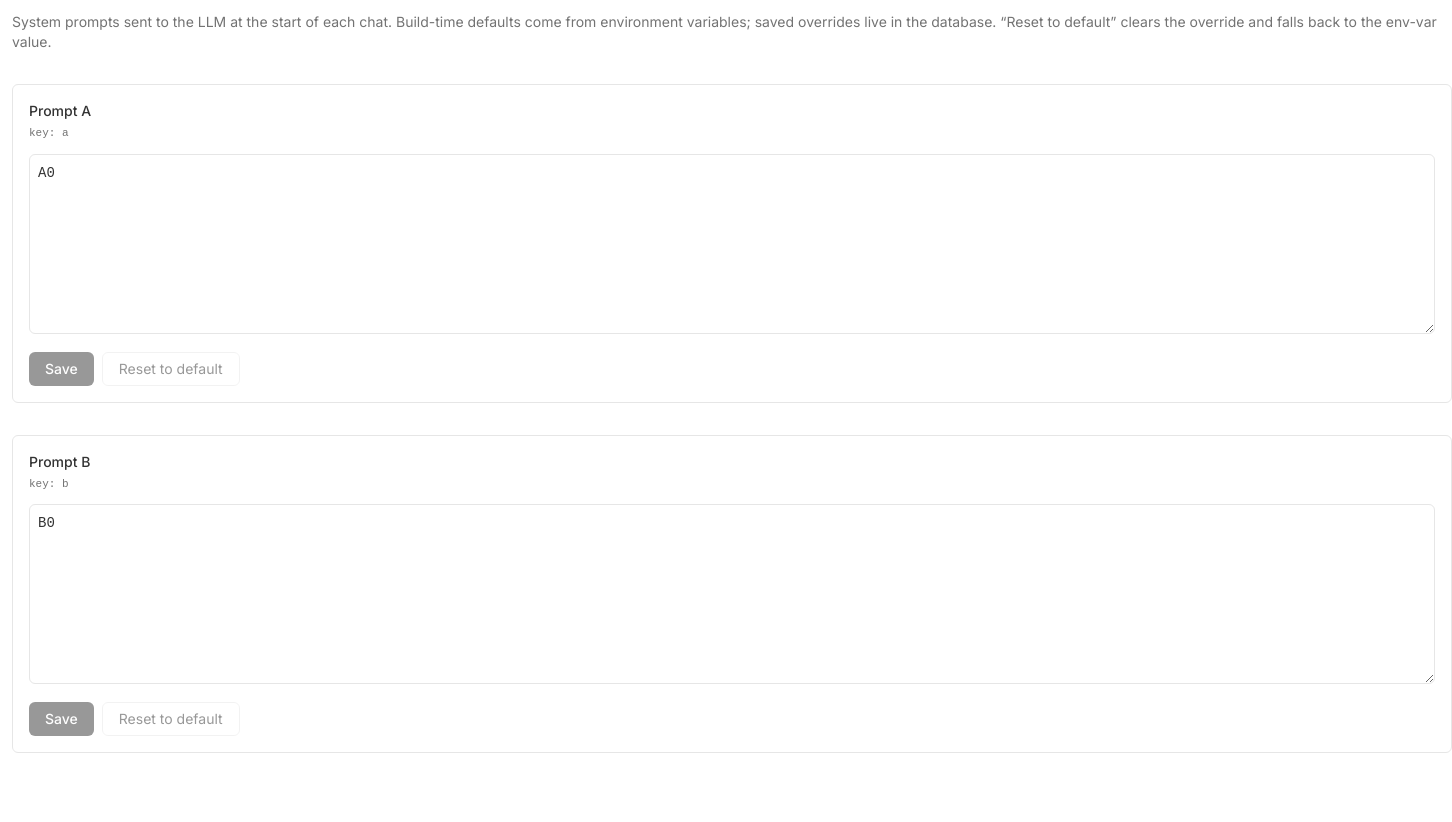
Test case: Prompts tab and the bar › shows the bar once a prompt is edited, and Discard puts the text back
The image size is (1452, 822).
Expected: the text "Prompt A" is shown, [29,101,91,121]
Expected: the element "unsaved changes" is not shown
Replace the text in the text box below "Prompt A" with "A1" at (732, 244), box [29,154,1435,334]
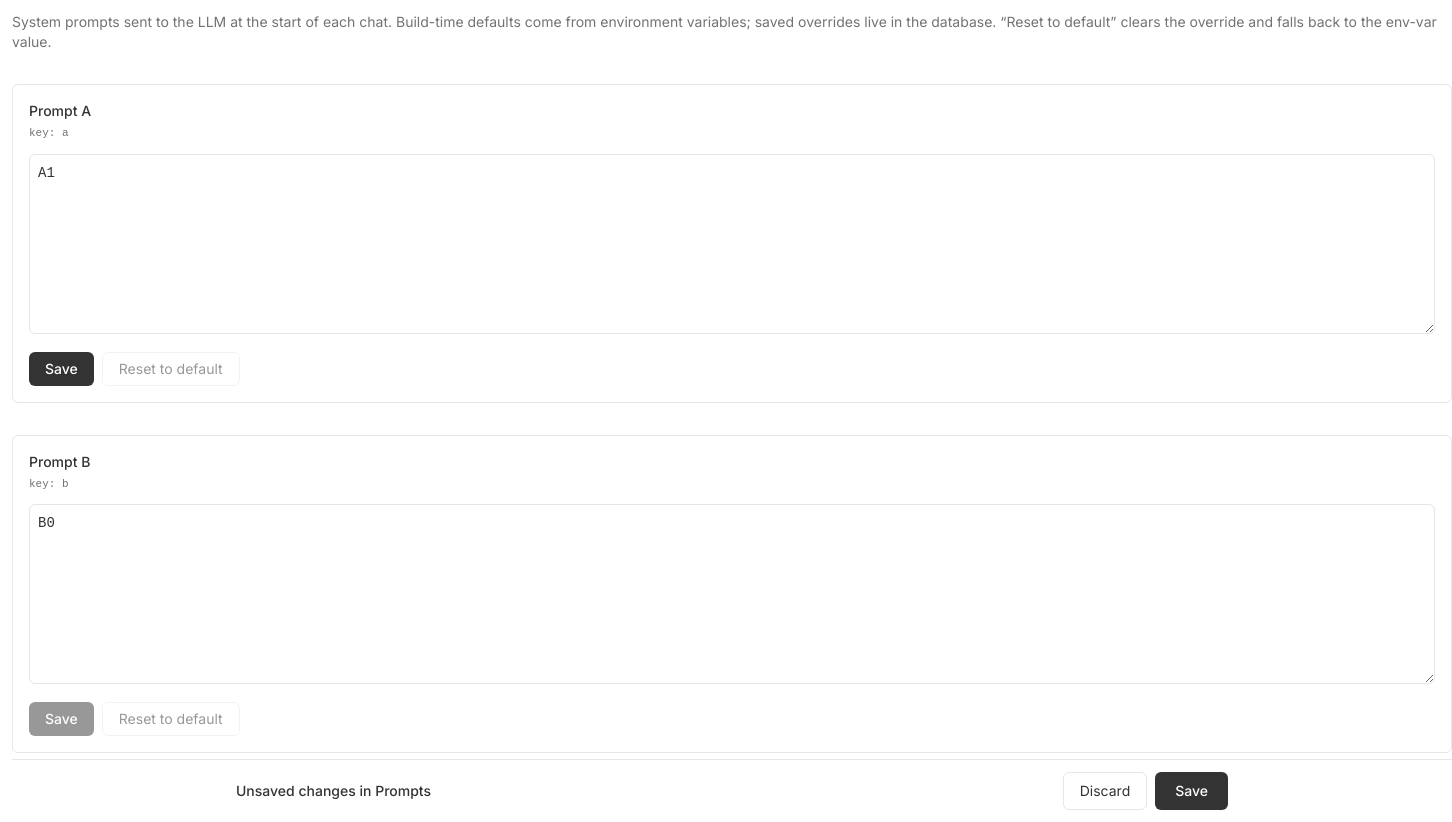
Expected: the element "Unsaved changes in Prompts Discard Save" is shown, [12,759,1451,821]
Click the button "Discard".
click(1105, 791)  # box [1063,772,1147,810]
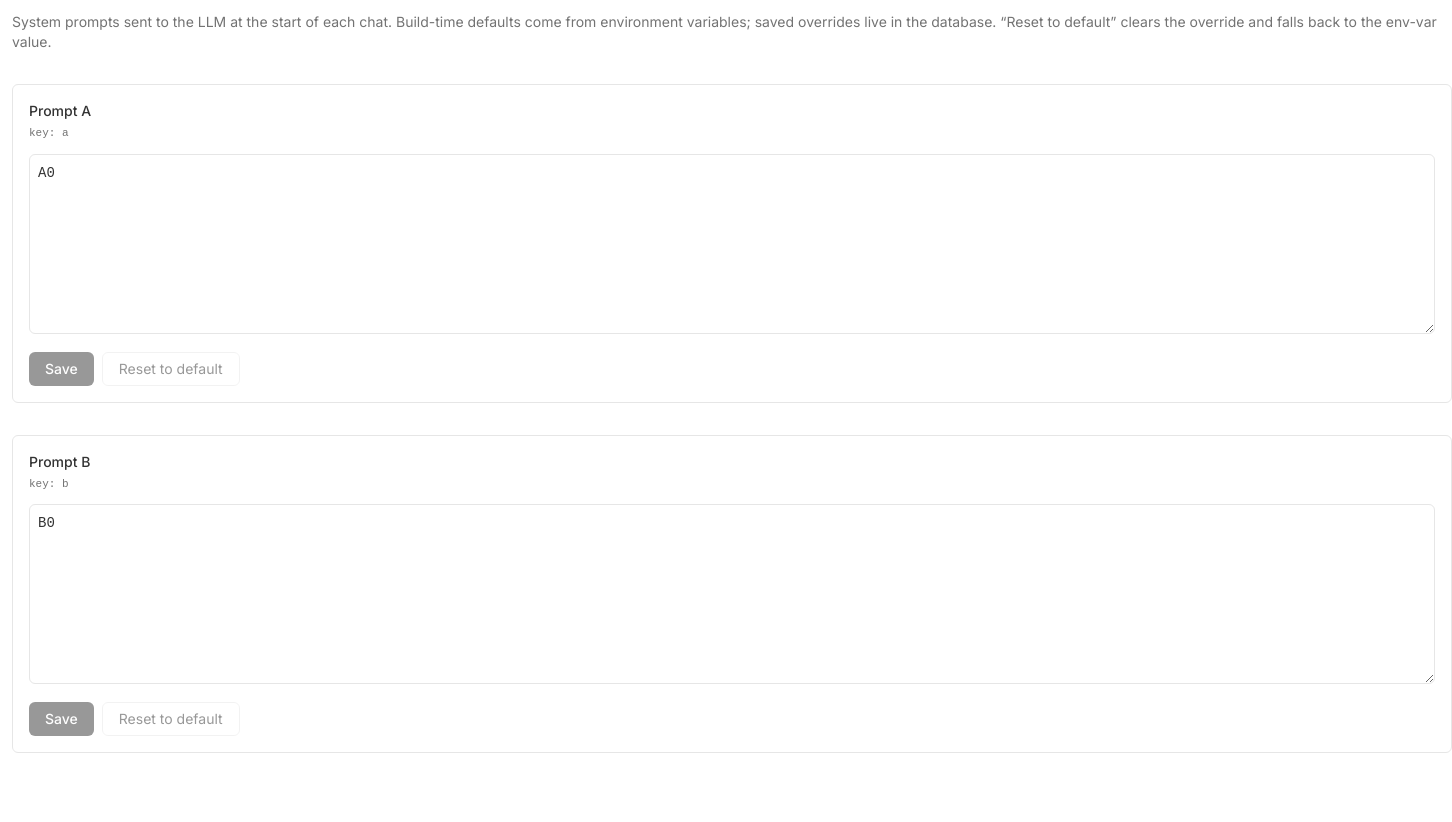
Expected: the text box below "Prompt A" holds "A0", [29,154,1435,334]
Expected: the text "Unsaved changes" is gone
